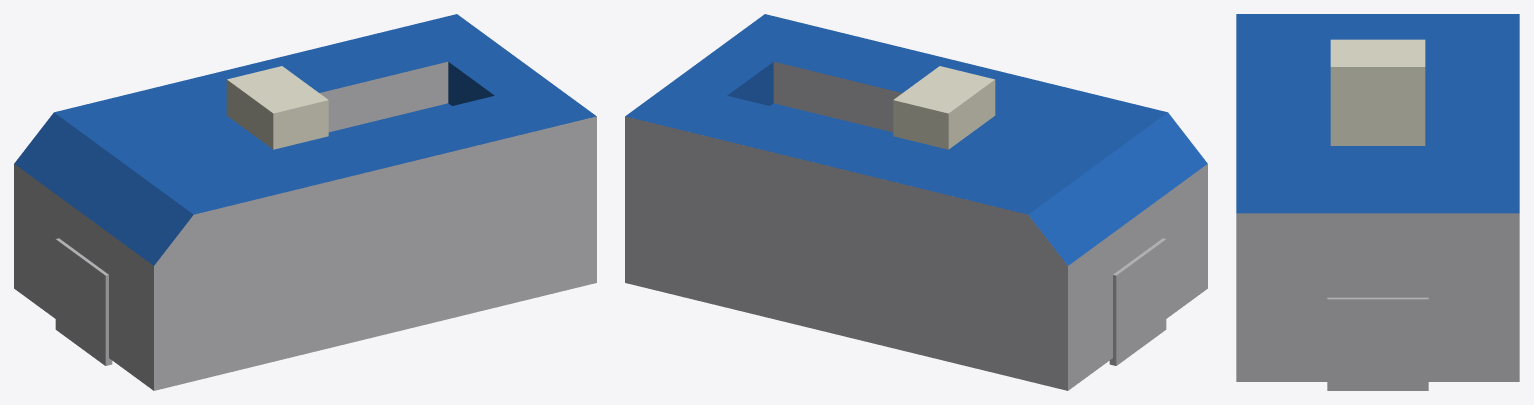
The model's file is kc-sw_spst_reed_ct05-xxxx-j1.glb.
The picture shows the model from 3 angles, left to right: view 1: azimuth 30°, elevation 25°; view 2: azimuth 150°, elevation 25°; view 3: azimuth 270°, elevation 25°; orthographic projection.
Visible parts, largest first — view 1: 0.5833333333333334_0.5833333333333334_0.5833333333333334_0.8, 0_0.16666666666666666_0.5_0, 0.75_0.75_0.6666666666666666_0; view 2: 0.5833333333333334_0.5833333333333334_0.5833333333333334_0.8, 0_0.16666666666666666_0.5_0, 0.75_0.75_0.6666666666666666_0; view 3: 0.5833333333333334_0.5833333333333334_0.5833333333333334_0.8, 0_0.16666666666666666_0.5_0, 0.75_0.75_0.6666666666666666_0.
Part boxes in pixels (x1,y1,x2,y2): 0.5833333333333334_0.5833333333333334_0.5833333333333334_0.8: [14, 62, 596, 390]; 0_0.16666666666666666_0.5_0: [14, 14, 596, 265]; 0.75_0.75_0.6666666666666666_0: [226, 66, 328, 149]; 0.5833333333333334_0.5833333333333334_0.5833333333333334_0.8: [625, 62, 1207, 390]; 0_0.16666666666666666_0.5_0: [625, 14, 1207, 265]; 0.75_0.75_0.6666666666666666_0: [893, 66, 995, 149]; 0.5833333333333334_0.5833333333333334_0.5833333333333334_0.8: [1236, 213, 1519, 390]; 0_0.16666666666666666_0.5_0: [1236, 14, 1519, 213]; 0.75_0.75_0.6666666666666666_0: [1330, 39, 1425, 145].
Size of the model in its own units: 0.65 by 0.29 by 0.35.
